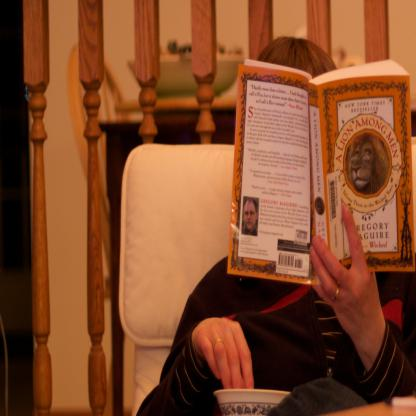book: (228, 57, 416, 288)
